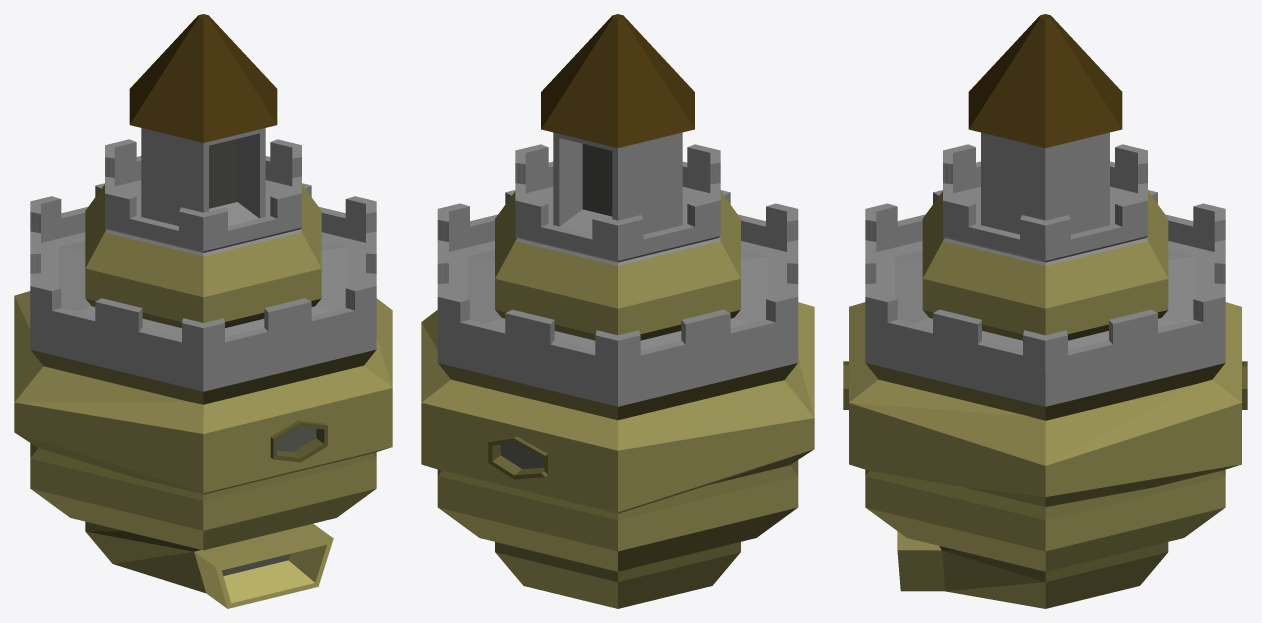
Rendered from base_lvl_3.fbx.
3 views of the same model, side by side, from view 1: azimuth 30°, elevation 25°; view 2: azimuth 150°, elevation 25°; view 3: azimuth 270°, elevation 25° (orthographic). The views are drawn at different scales.
Visible parts, largest first — view 1: Beehive_lvl2; view 2: Beehive_lvl2; view 3: Beehive_lvl2.
Part boxes in pixels (left/top/right/bottom): Beehive_lvl2: left=14, top=14, right=392, bottom=608; Beehive_lvl2: left=421, top=14, right=814, bottom=608; Beehive_lvl2: left=843, top=14, right=1247, bottom=608.
Bounding box in the file's own units: 4.07 × 5.45 × 3.62.
